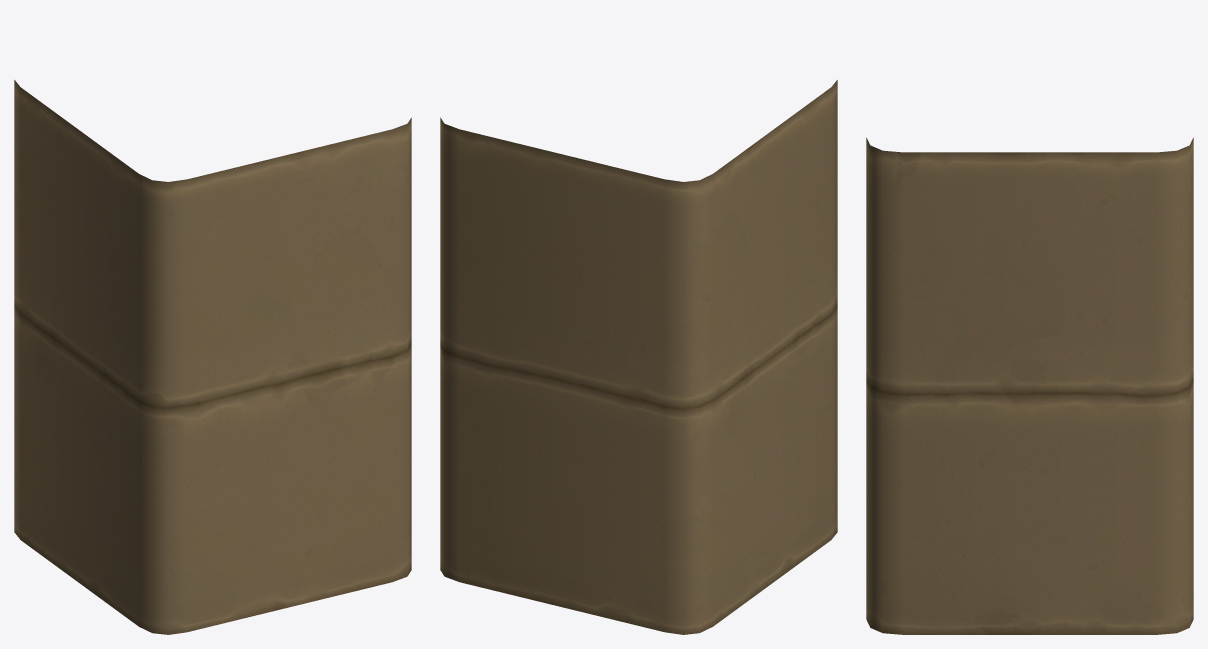
Rendered from SM_brick_building_16.glb.
The picture shows the model from 3 angles, left to right: view 1: azimuth 30°, elevation 25°; view 2: azimuth 150°, elevation 25°; view 3: azimuth 270°, elevation 25°; orthographic projection. The views are drawn at different scales.
Visible parts, largest first — view 1: SM_brick_building_16; view 2: SM_brick_building_16; view 3: SM_brick_building_16.
Part boxes in pixels (x1,y1,x2,y2): SM_brick_building_16: (14,80,411,634); SM_brick_building_16: (440,80,837,634); SM_brick_building_16: (866,137,1193,634).
Size of the model in its own units: 0.8 by 1.3 by 0.8.
1 material, 1 textured.
